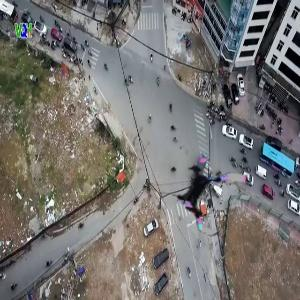drone: (169, 158, 250, 239)
